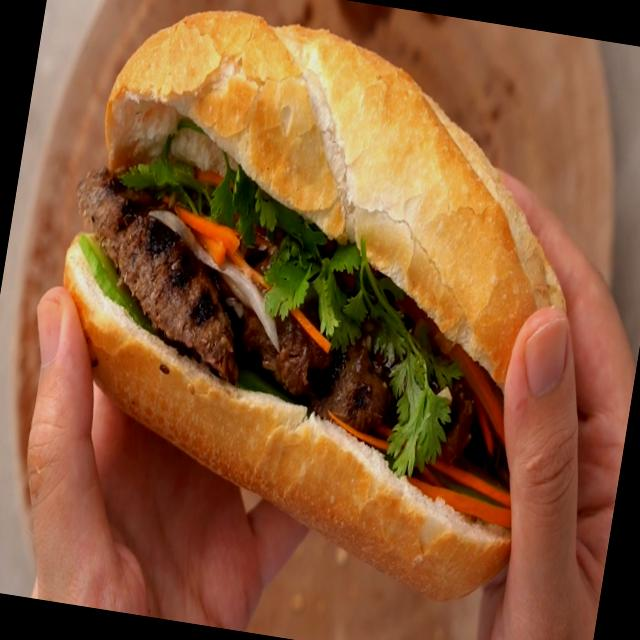banh mi: (64, 12, 564, 599)
